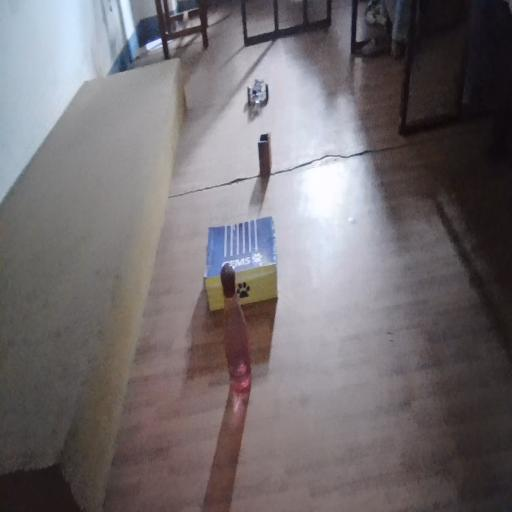Bottle: (217, 260, 262, 414)
car: (246, 75, 268, 109)
